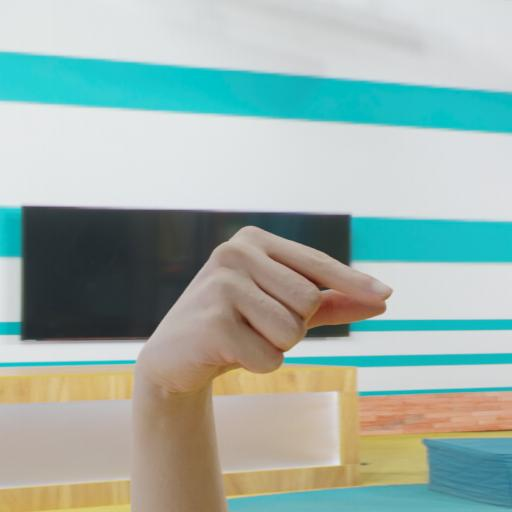G: (122, 214, 406, 404)
